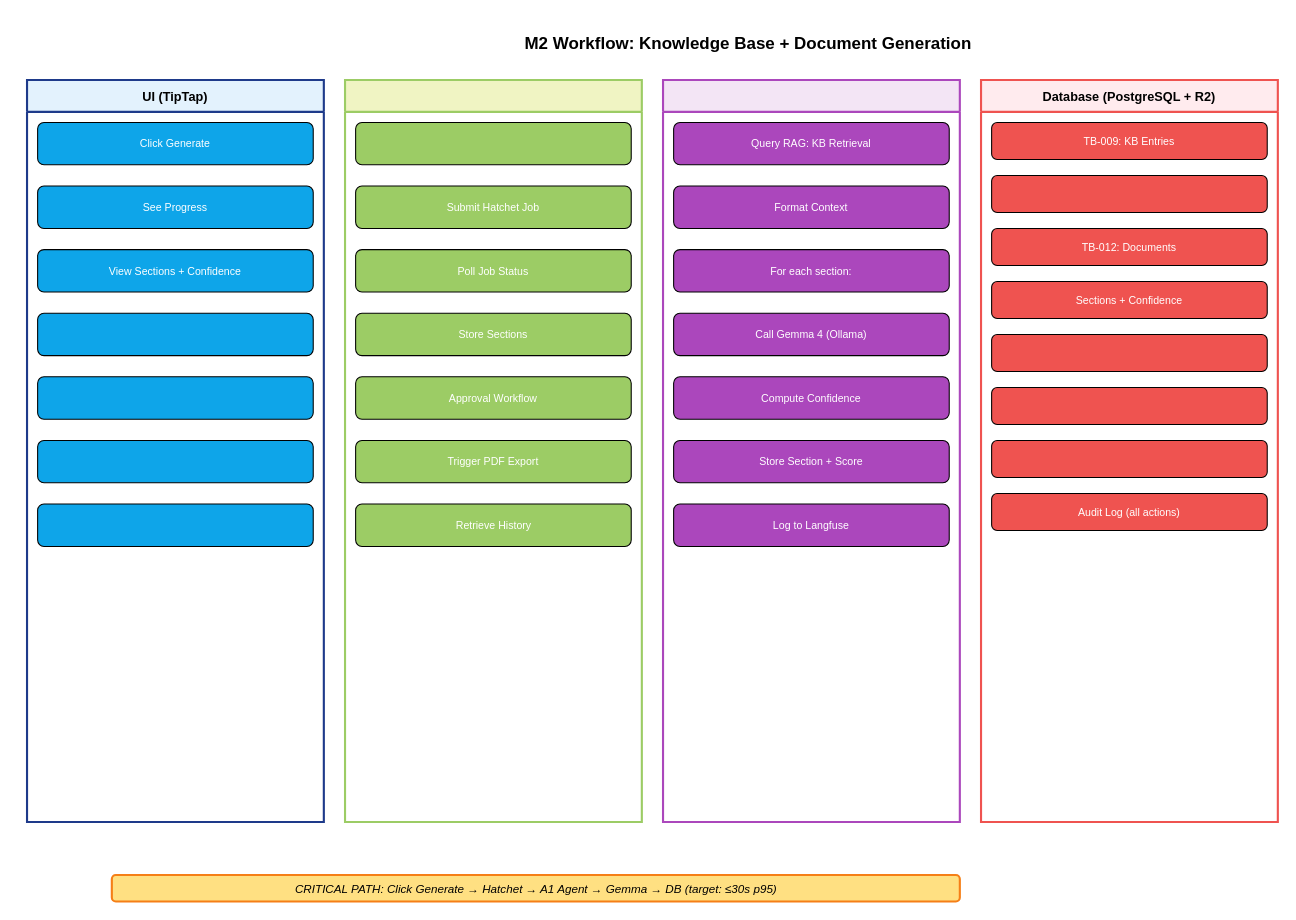
Some shapes in this 1296 by 920 pixel diagram are drawn without their labels. Here are the shapes that lost their labels. From the top down, the box of each, then its label:
(355, 121, 631, 165): Create Document
(991, 174, 1267, 213): pgvector Index (HNSW)
(37, 312, 313, 356): Edit + Comment
(991, 333, 1267, 372): Comments + Metadata
(37, 376, 313, 419): Submit Approval
(991, 386, 1267, 425): Versions (immutable)
(37, 439, 313, 483): Export PDF
(343, 78, 642, 823): Document Service (NestJS)
(661, 78, 960, 823): A1 Agent + RAG (FastAPI)
(991, 439, 1267, 478): PDF (R2 Storage)
(37, 503, 313, 546): View Versions
